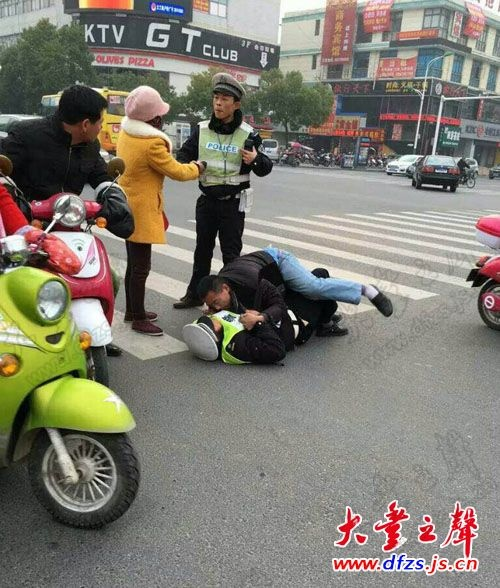falling: (174, 236, 383, 362)
